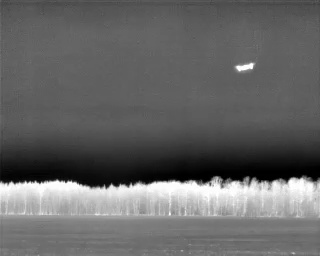DRONE: (231, 57, 259, 77)
